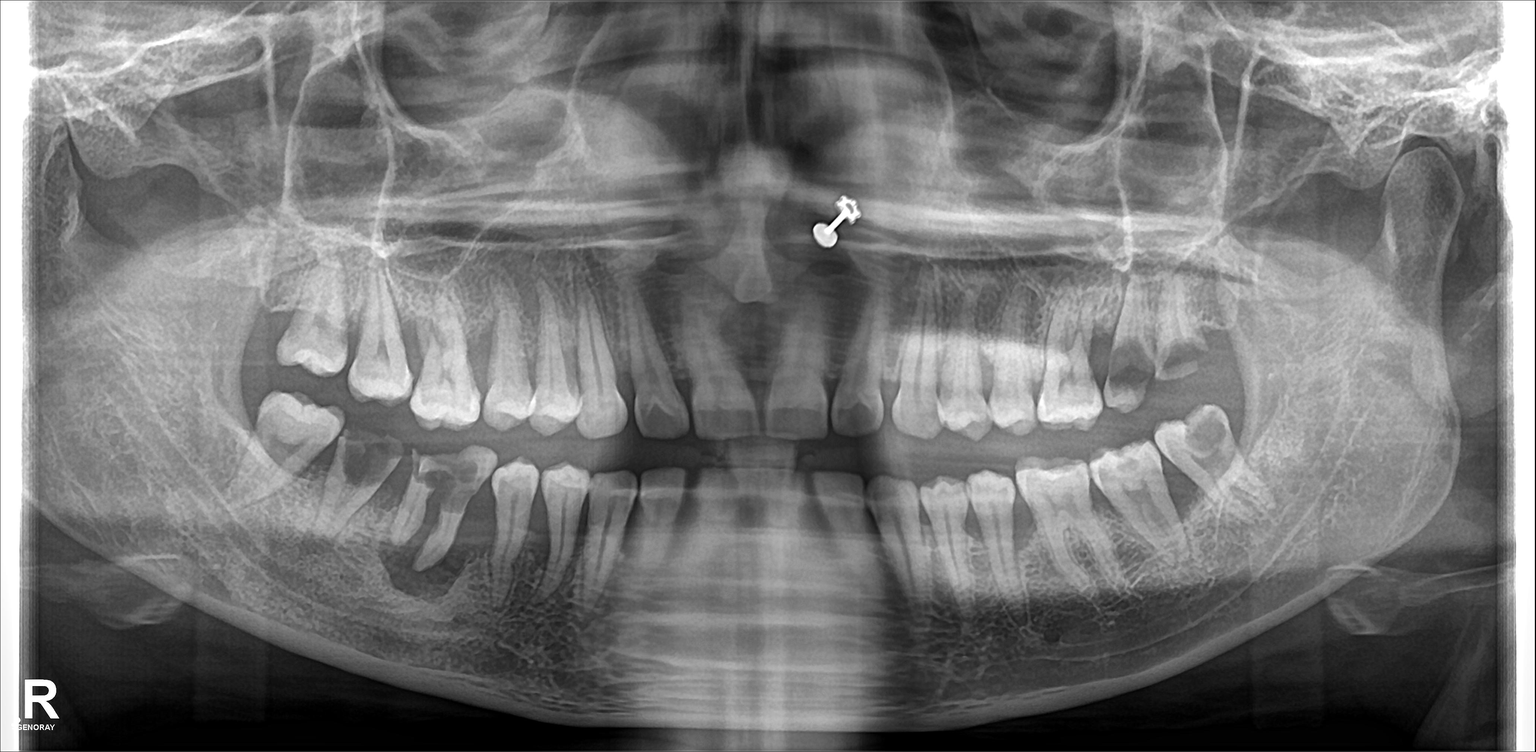Dental Caries: (408, 463, 471, 512), (339, 436, 396, 487), (1160, 335, 1213, 381), (628, 404, 685, 438), (1184, 408, 1228, 451), (1114, 341, 1143, 395), (834, 404, 882, 426)
Missing Tooth: (818, 478, 878, 617), (246, 270, 295, 378)
Periapical Lesion: (387, 467, 499, 596)
Retained Root: (317, 426, 387, 542)
